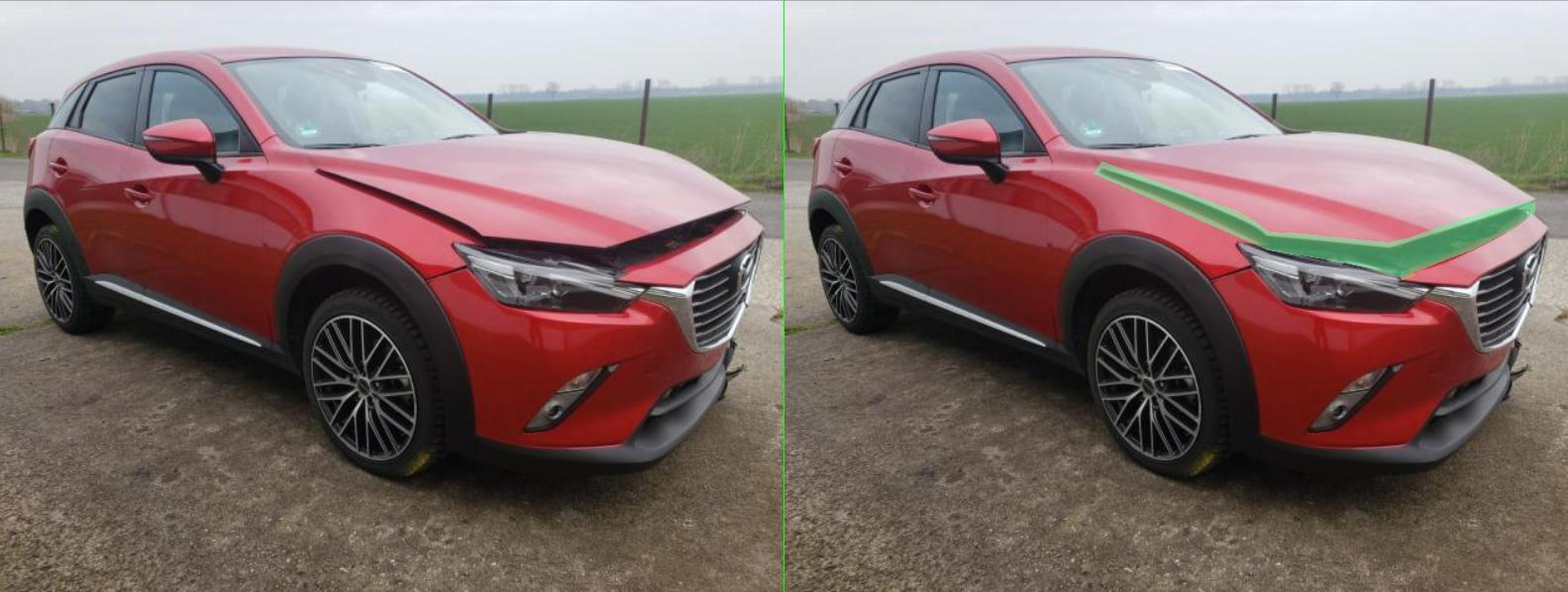Broken part: (618, 161, 1501, 276)
Paint chip: (1225, 270, 1261, 279)
